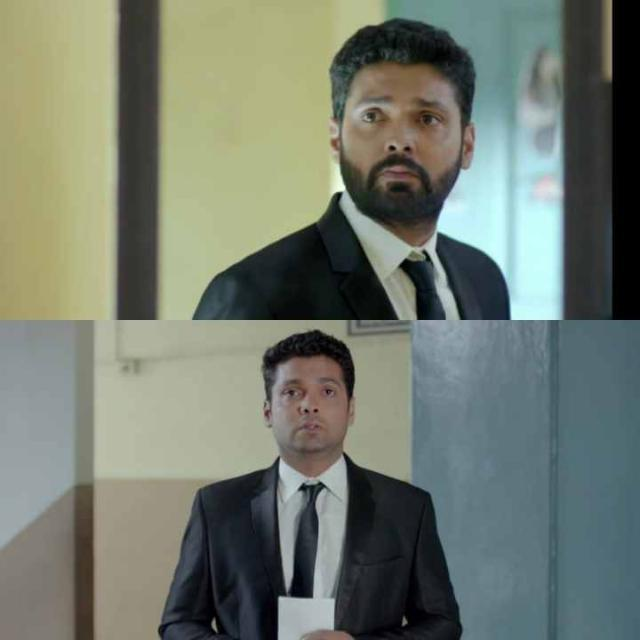person: (138, 306, 492, 640), (215, 11, 541, 352)
